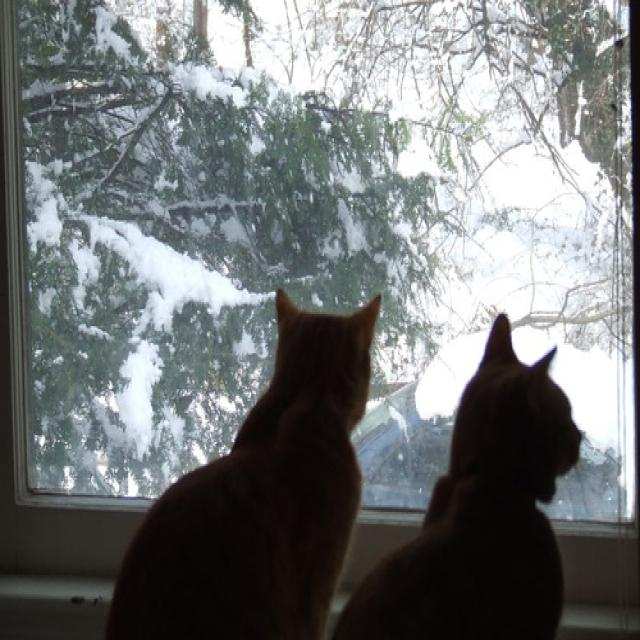cat: (105, 288, 383, 639), (330, 312, 583, 639)
